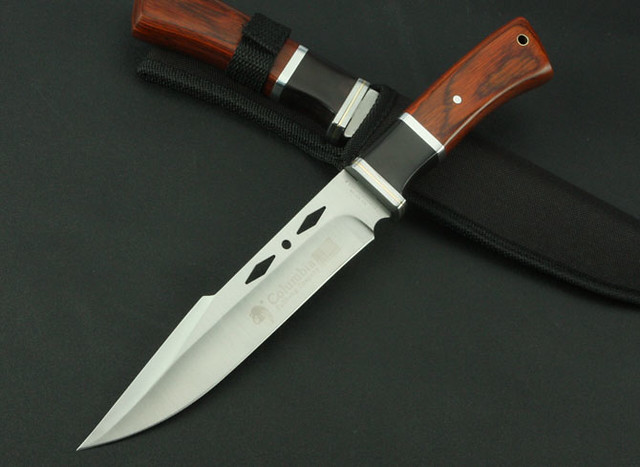knife: (74, 14, 557, 451)
